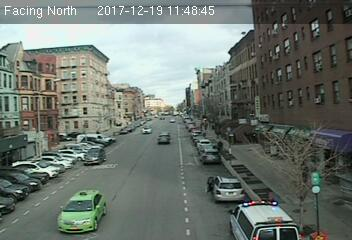car: (54, 188, 107, 233), (209, 175, 244, 201), (84, 146, 104, 164), (201, 148, 221, 163), (157, 132, 170, 143)
police: (229, 200, 299, 240)
